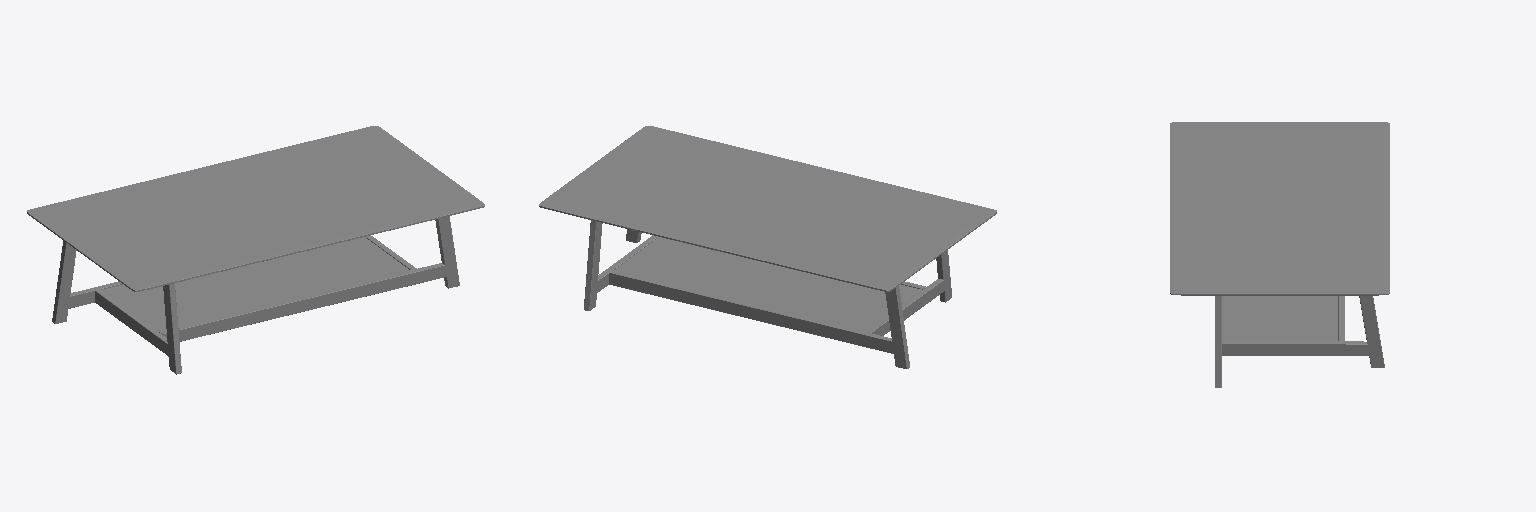
Rendered from table.obj.
3 views of the same model, side by side, from view 1: azimuth 30°, elevation 25°; view 2: azimuth 150°, elevation 25°; view 3: azimuth 270°, elevation 25° (orthographic).
Visible parts, largest first — view 1: Object001; view 2: Object001; view 3: Object001.
Part boxes in pixels (left/top/right/bottom): Object001: left=27, top=126, right=484, bottom=374; Object001: left=539, top=126, right=996, bottom=368; Object001: left=1170, top=122, right=1389, bottom=387.
Bounding box in the file's own units: 120 × 31.32 × 65.